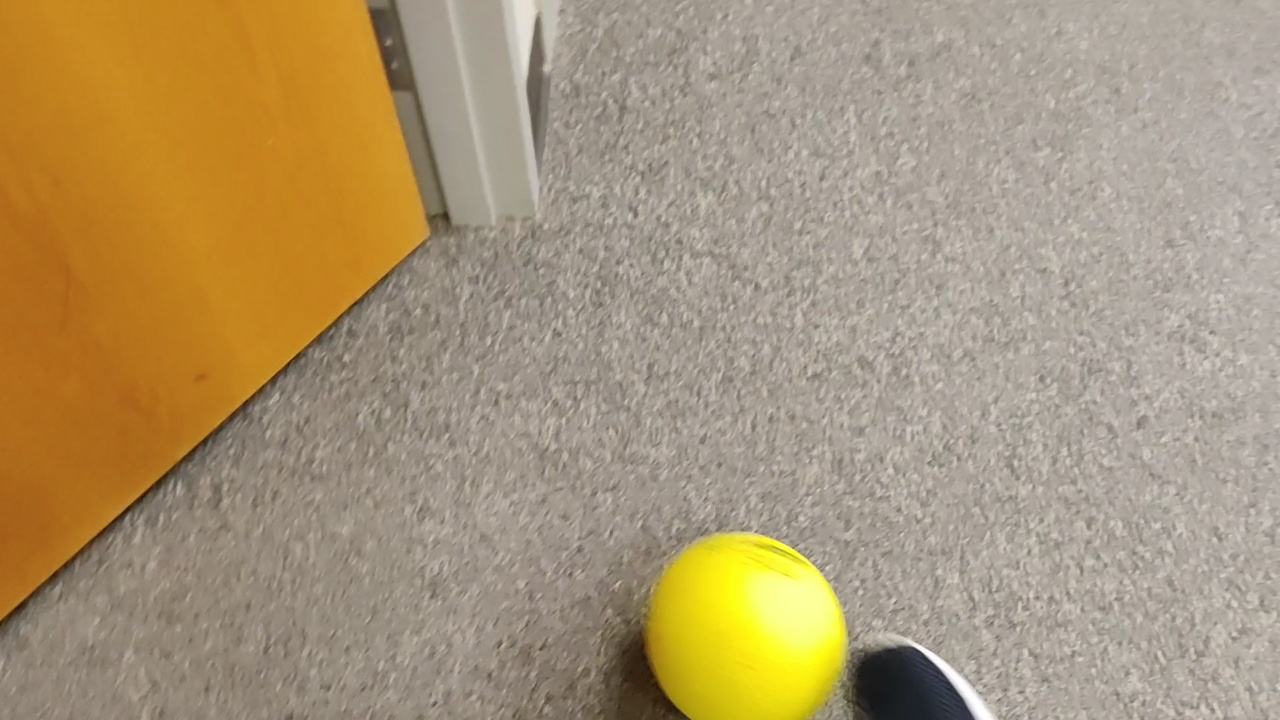Ball: (644, 533, 848, 719)
